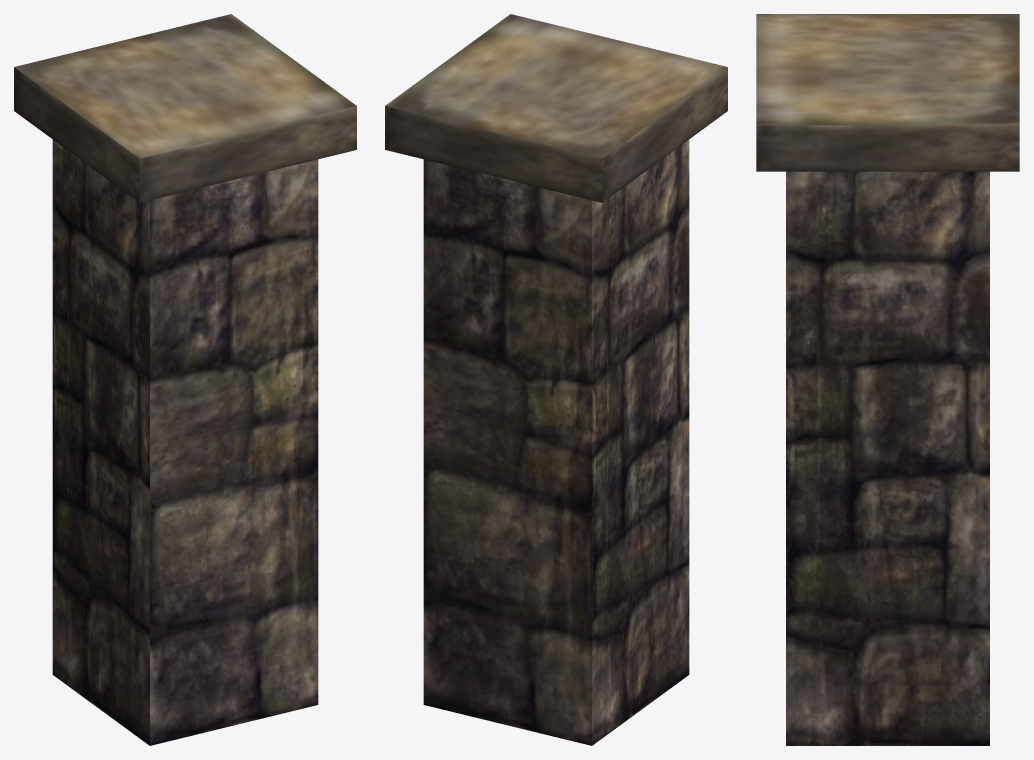
File: wall_corner_mossy_stone.fbx
3 renders of one model, left to right at view 1: azimuth 30°, elevation 25°; view 2: azimuth 150°, elevation 25°; view 3: azimuth 270°, elevation 25°, orthographic. The views are drawn at different scales.
Parts seen in each view (by area): view 1: lod_high; view 2: lod_high; view 3: lod_high.
Boxes of the visible parts, <box> form: lod_high: <box>14,14,356,745</box>; lod_high: <box>385,14,727,745</box>; lod_high: <box>756,14,1019,745</box>.
Bounding box in the file's own units: 663 × 1760 × 663.
Materials: 2 (2 with a texture image).
